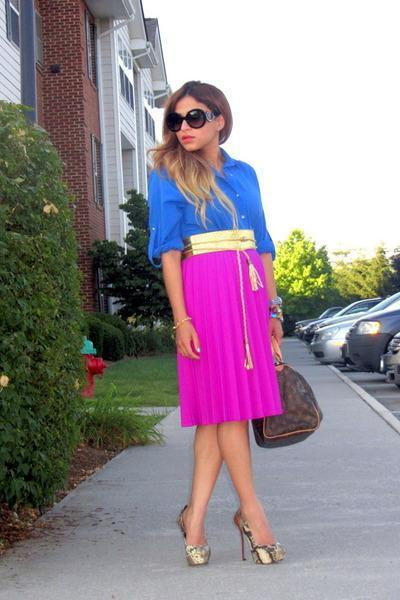bag: (252, 365, 322, 447)
shirt: (147, 151, 274, 263)
shoe: (176, 501, 292, 569)
skirt: (178, 243, 283, 426)
sunglass: (164, 103, 220, 144)
